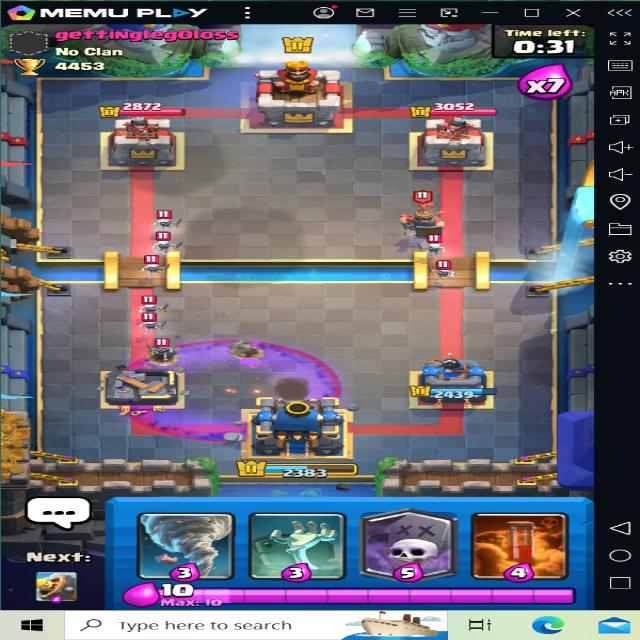Graveyard: (121, 330, 348, 447)
Royalrecruits: (394, 192, 452, 242)
Skeleton: (415, 235, 448, 260), (147, 332, 176, 359), (139, 310, 171, 334), (135, 252, 167, 276), (148, 230, 180, 254), (131, 296, 168, 316), (156, 203, 180, 228), (428, 263, 455, 281)
